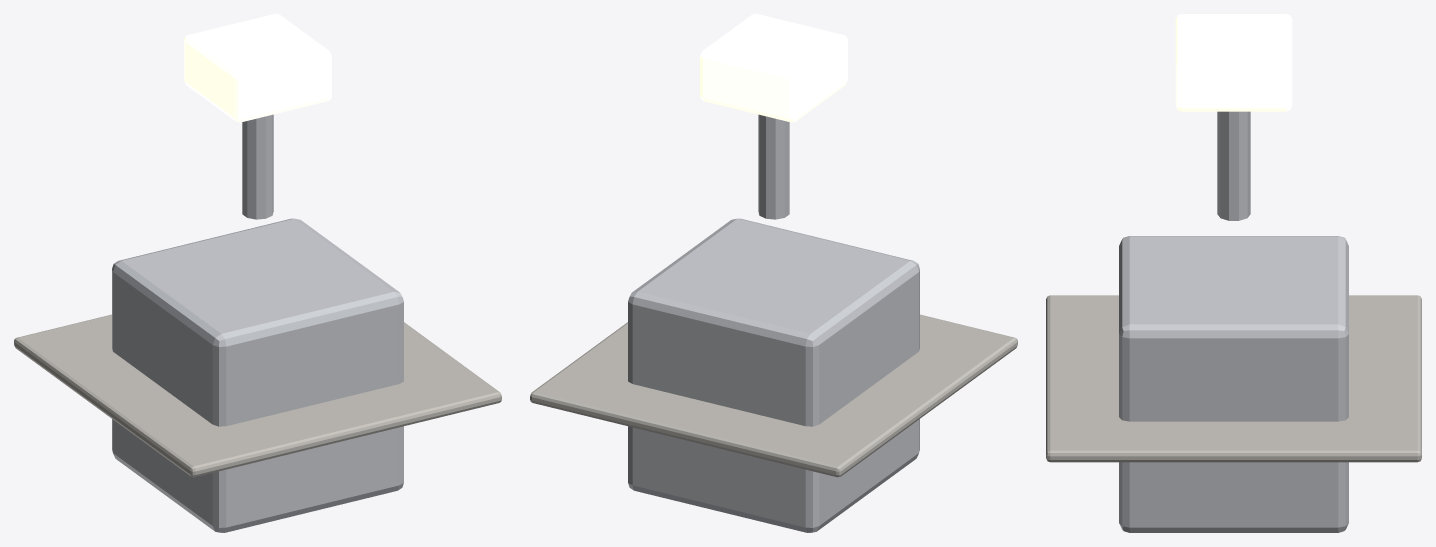
Rendered from light_brush_01.glb.
3 views of the same model, side by side, from view 1: azimuth 30°, elevation 25°; view 2: azimuth 150°, elevation 25°; view 3: azimuth 270°, elevation 25° (orthographic). The views are drawn at different scales.
Visible parts, largest first — view 1: ENV_light_brush_01, ENV_light_brush_01_Pad, ENV_light_brush_01_Lamp, ENV_light_brush_01_Post; view 2: ENV_light_brush_01, ENV_light_brush_01_Pad, ENV_light_brush_01_Lamp, ENV_light_brush_01_Post; view 3: ENV_light_brush_01, ENV_light_brush_01_Pad, ENV_light_brush_01_Lamp, ENV_light_brush_01_Post.
Part boxes in pixels (x1,y1,x2,y2): ENV_light_brush_01: [112, 218, 403, 532]; ENV_light_brush_01_Pad: [14, 314, 501, 477]; ENV_light_brush_01_Lamp: [184, 14, 331, 122]; ENV_light_brush_01_Post: [242, 114, 273, 219]; ENV_light_brush_01: [628, 218, 919, 532]; ENV_light_brush_01_Pad: [530, 314, 1017, 477]; ENV_light_brush_01_Lamp: [700, 14, 847, 122]; ENV_light_brush_01_Post: [758, 114, 789, 219]; ENV_light_brush_01: [1119, 236, 1348, 532]; ENV_light_brush_01_Pad: [1046, 295, 1421, 462]; ENV_light_brush_01_Lamp: [1175, 14, 1292, 111]; ENV_light_brush_01_Post: [1217, 111, 1250, 220].
Bounding box in the file's own units: 1.8 × 2.39 × 1.8.
